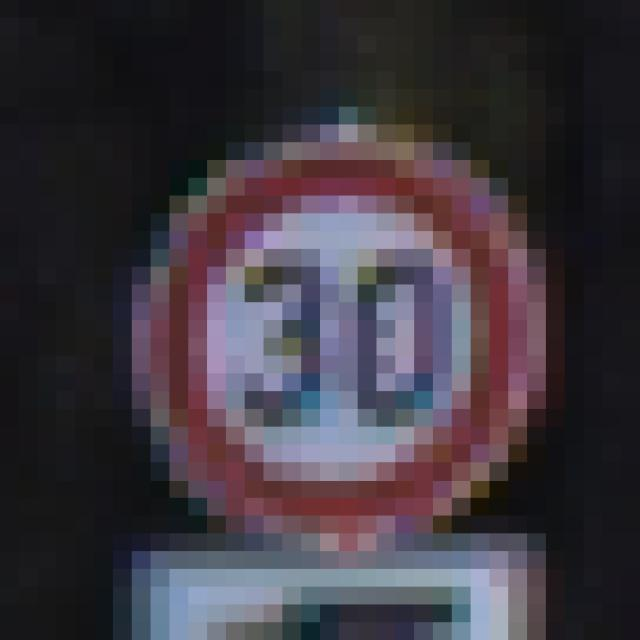Speed Limit -30-: (104, 98, 536, 542)
